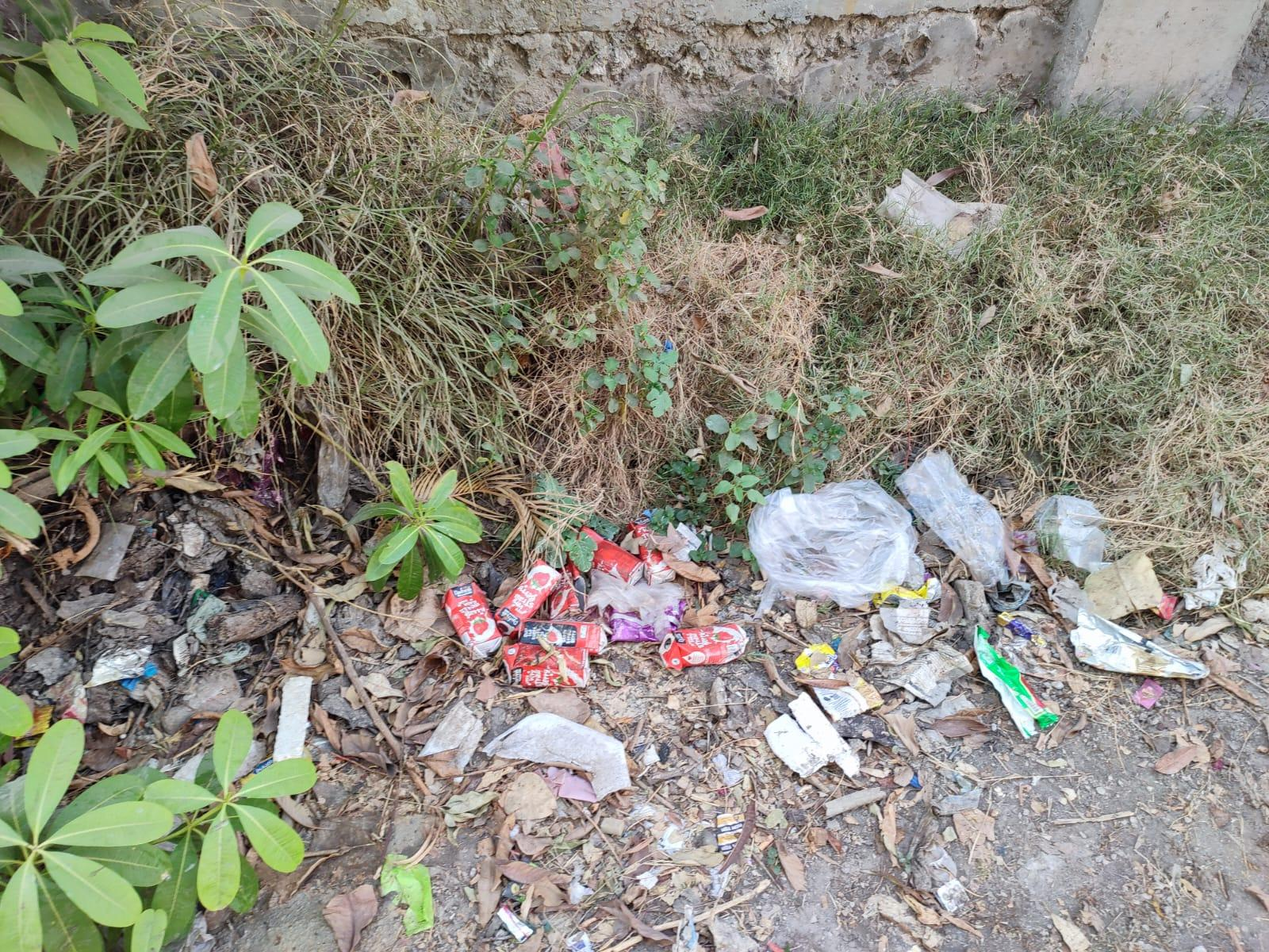garbage: (314, 417, 1238, 784)
